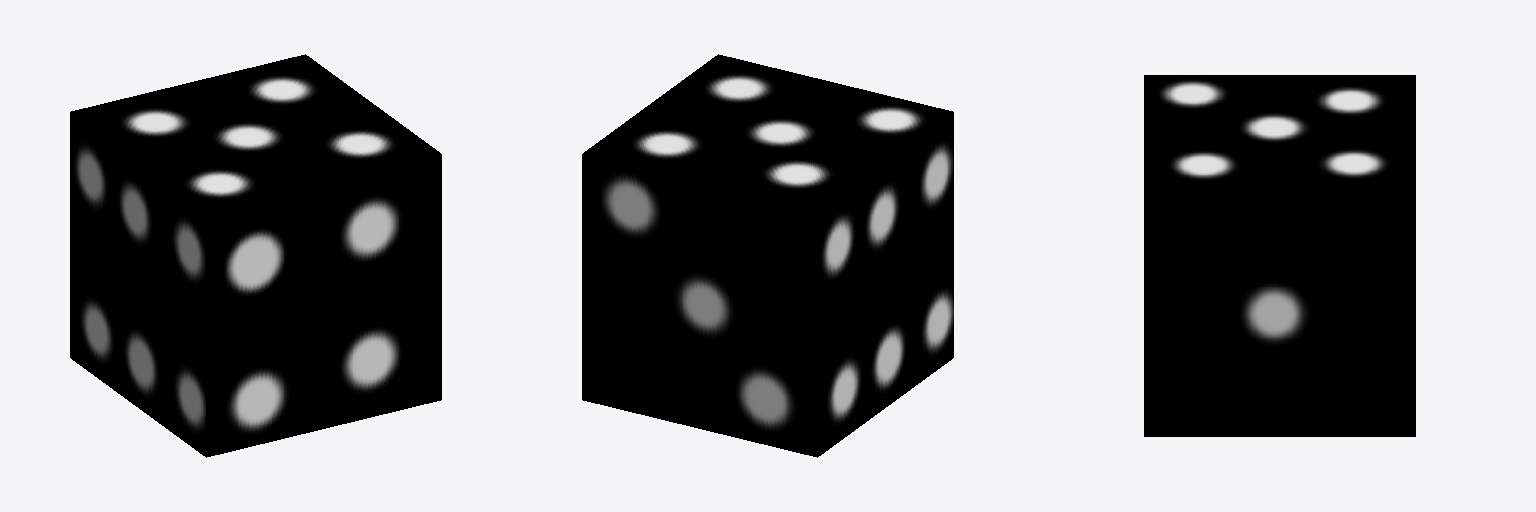
3 views of the same model, side by side, from view 1: azimuth 30°, elevation 25°; view 2: azimuth 150°, elevation 25°; view 3: azimuth 270°, elevation 25° (orthographic).
Visible parts, largest first — view 1: Cube; view 2: Cube; view 3: Cube.
Boxes of the visible parts, <box> form: Cube: <box>70,54,441,457</box>; Cube: <box>582,54,953,457</box>; Cube: <box>1144,75,1415,436</box>.
Size of the model in its own units: 2 by 2 by 2.
Materials: 1 (1 with a texture image).